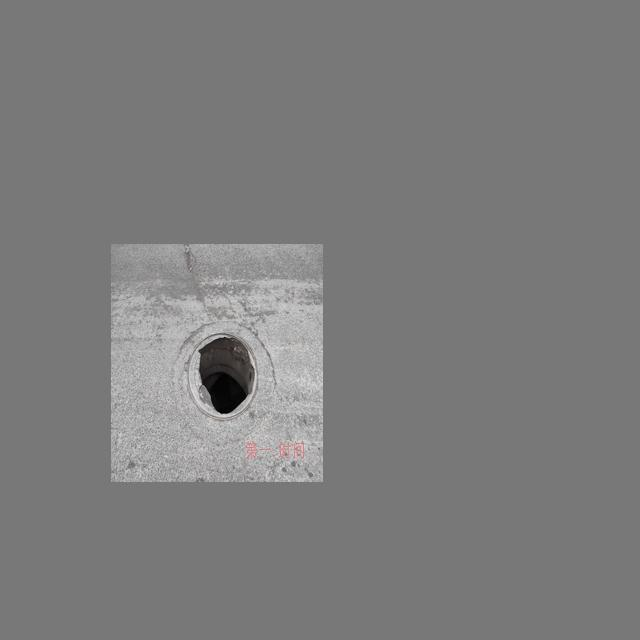broke: (173, 319, 279, 442)
